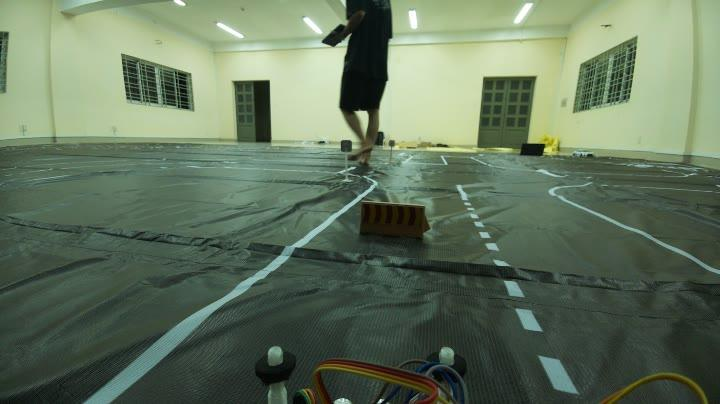roadblock: (353, 194, 443, 254)
